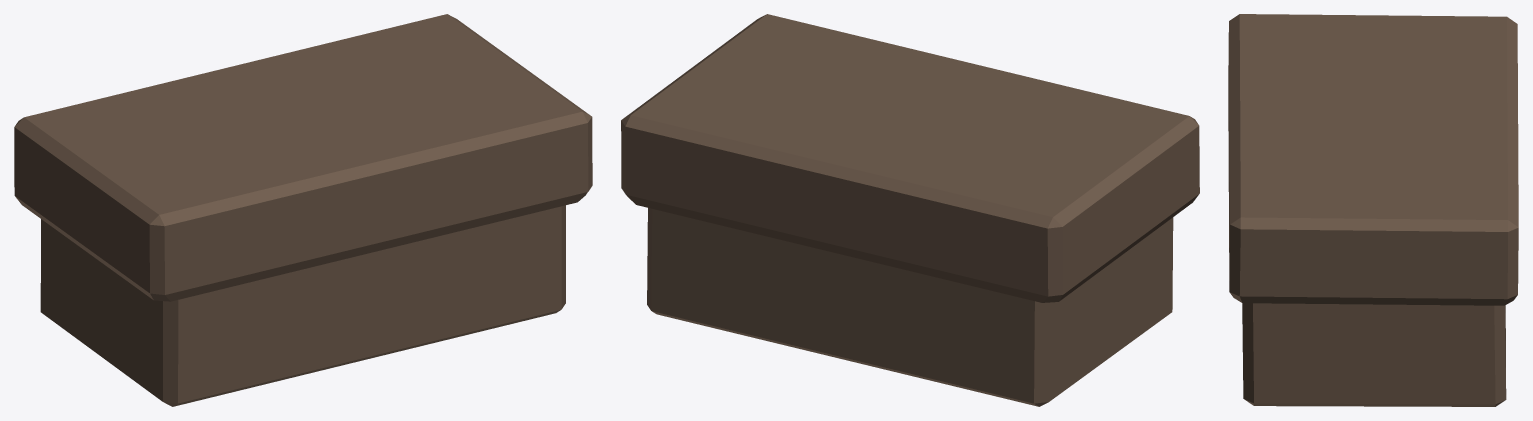
The model's file is Ottoman_5.fbx.
The picture shows the model from 3 angles, left to right: view 1: azimuth 30°, elevation 25°; view 2: azimuth 150°, elevation 25°; view 3: azimuth 270°, elevation 25°; orthographic projection.
Parts seen in each view (by area): view 1: Ottoman_5; view 2: Ottoman_5; view 3: Ottoman_5.
Part boxes in pixels (<box>): Ottoman_5: <box>14,14,592,406</box>; Ottoman_5: <box>621,14,1199,406</box>; Ottoman_5: <box>1228,14,1518,406</box>.
Bounding box in the file's own units: 102 × 59.07 × 44.65.
